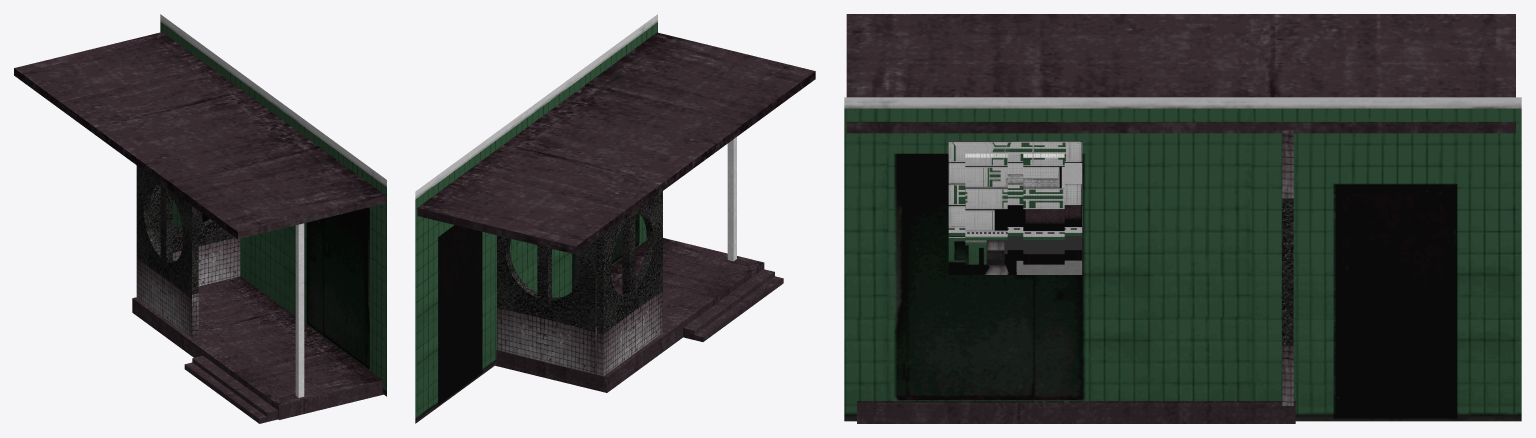
The model's file is domClosed.fbx.
3 views of the same model, side by side, from view 1: azimuth 30°, elevation 25°; view 2: azimuth 150°, elevation 25°; view 3: azimuth 270°, elevation 25° (orthographic). The views are drawn at different scales.
Parts seen in each view (by area): view 1: etaj.007; view 2: etaj.007; view 3: etaj.007.
Boxes of the visible parts, bbox=[...] form: etaj.007: bbox=[14, 14, 386, 423]; etaj.007: bbox=[415, 14, 815, 423]; etaj.007: bbox=[844, 14, 1521, 423].
Size of the model in its own units: 331 by 431 by 813.
1 material, 1 textured.
